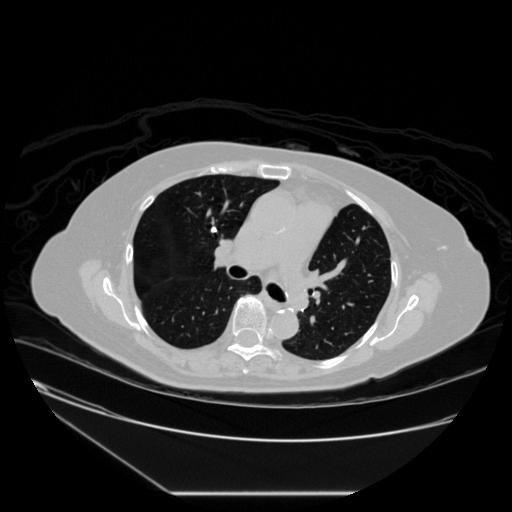nodule: (207, 224, 219, 236)
